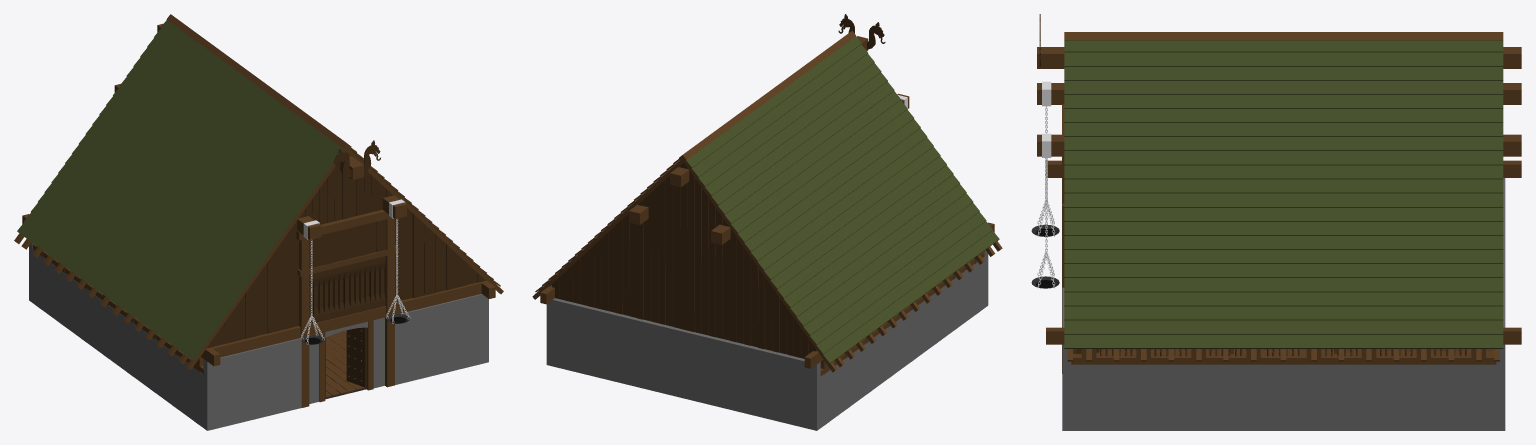
Rendered from Hall.fbx.
3 views of the same model, side by side, from view 1: azimuth 30°, elevation 25°; view 2: azimuth 150°, elevation 25°; view 3: azimuth 270°, elevation 25° (orthographic). The views are drawn at different scales.
Visible parts, largest first — view 1: Cube.246, Cube.213, Cube.287, Cube.288, Cube.235, Cube.286, Cube.312, Cube.237, Cube, Cube.393, Cube.295, Cube.310 (+17 smaller); view 2: Cube.246, Cube.292, Cube.213, Cube.286, Cube.371, Cube.352, Cube.353, Cube.351, Cube.370, Cube.372, Cube.354, Cube.373 (+23 smaller); view 3: Cube.247, Cube.214, Cube.286, Cube.234, Cube.292, Cube.248, Cube, Cube.250, Cube.249, Cube.232, Cube.215.
Part boxes in pixels (x1,y1,x2,y2): Cube.246: (17, 20, 344, 361); Cube.213: (32, 250, 206, 429); Cube.287: (203, 338, 301, 430); Cube.288: (395, 294, 488, 384); Cube.235: (211, 280, 487, 357); Cube.286: (166, 14, 351, 151); Cube.312: (299, 239, 309, 407); Cube.237: (384, 218, 394, 387); Cube: (325, 330, 366, 399); Cube.393: (346, 327, 366, 387); Cube.295: (412, 213, 424, 298); Cube.310: (289, 221, 298, 328); Cube.246: (684, 36, 999, 363); Cube.292: (546, 298, 820, 430); Cube.213: (818, 255, 987, 429); Cube.286: (679, 30, 855, 162); Cube.371: (665, 176, 673, 326); Cube.352: (687, 168, 694, 331); Cube.353: (694, 178, 701, 333); Cube.351: (680, 163, 687, 330); Cube.370: (673, 166, 680, 328); Cube.372: (658, 180, 665, 324); Cube.354: (701, 188, 708, 335); Cube.373: (651, 186, 658, 322); Cube.247: (1064, 40, 1503, 348); Cube.214: (1064, 364, 1503, 430); Cube.286: (1064, 32, 1503, 40); Cube.234: (1071, 354, 1496, 364); Cube.292: (1496, 178, 1505, 430); Cube.248: (1037, 47, 1521, 68); Cube: (1096, 349, 1494, 353); Cube.250: (1037, 134, 1521, 156); Cube.249: (1037, 83, 1521, 104); Cube.232: (1046, 327, 1521, 344); Cube.215: (1046, 160, 1521, 177).
Bounding box in the file's own units: 2475 × 1937 × 2680.
